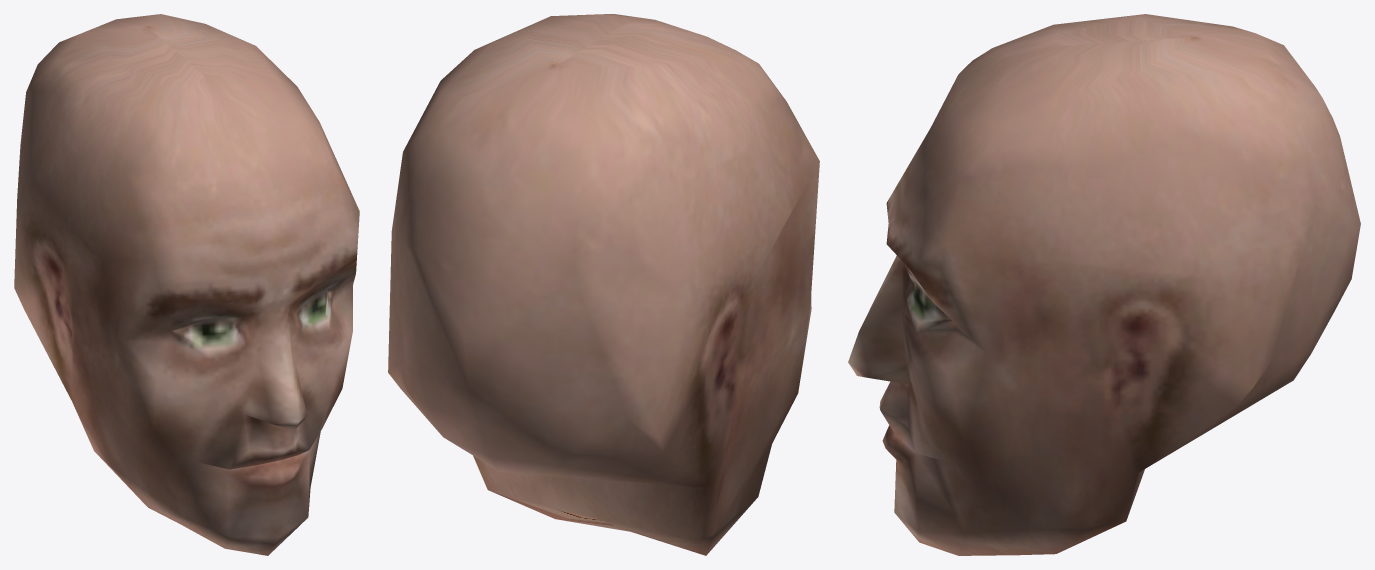
Rendered from b_n_breton_m_head_01.glb.
3 renders of one model, left to right at view 1: azimuth 30°, elevation 25°; view 2: azimuth 150°, elevation 25°; view 3: azimuth 270°, elevation 25°, orthographic. The views are drawn at different scales.
Visible parts, largest first — view 1: Tri B_N_Breton_M_Head_01; view 2: Tri B_N_Breton_M_Head_01; view 3: Tri B_N_Breton_M_Head_01.
Part boxes in pixels (left/top/right/bottom): Tri B_N_Breton_M_Head_01: left=14, top=14, right=359, bottom=555; Tri B_N_Breton_M_Head_01: left=388, top=14, right=819, bottom=555; Tri B_N_Breton_M_Head_01: left=848, top=14, right=1360, bottom=555.
Size of the model in its own units: 0.0956 by 0.1617 by 0.1487.
Materials: 1 (1 with a texture image).
